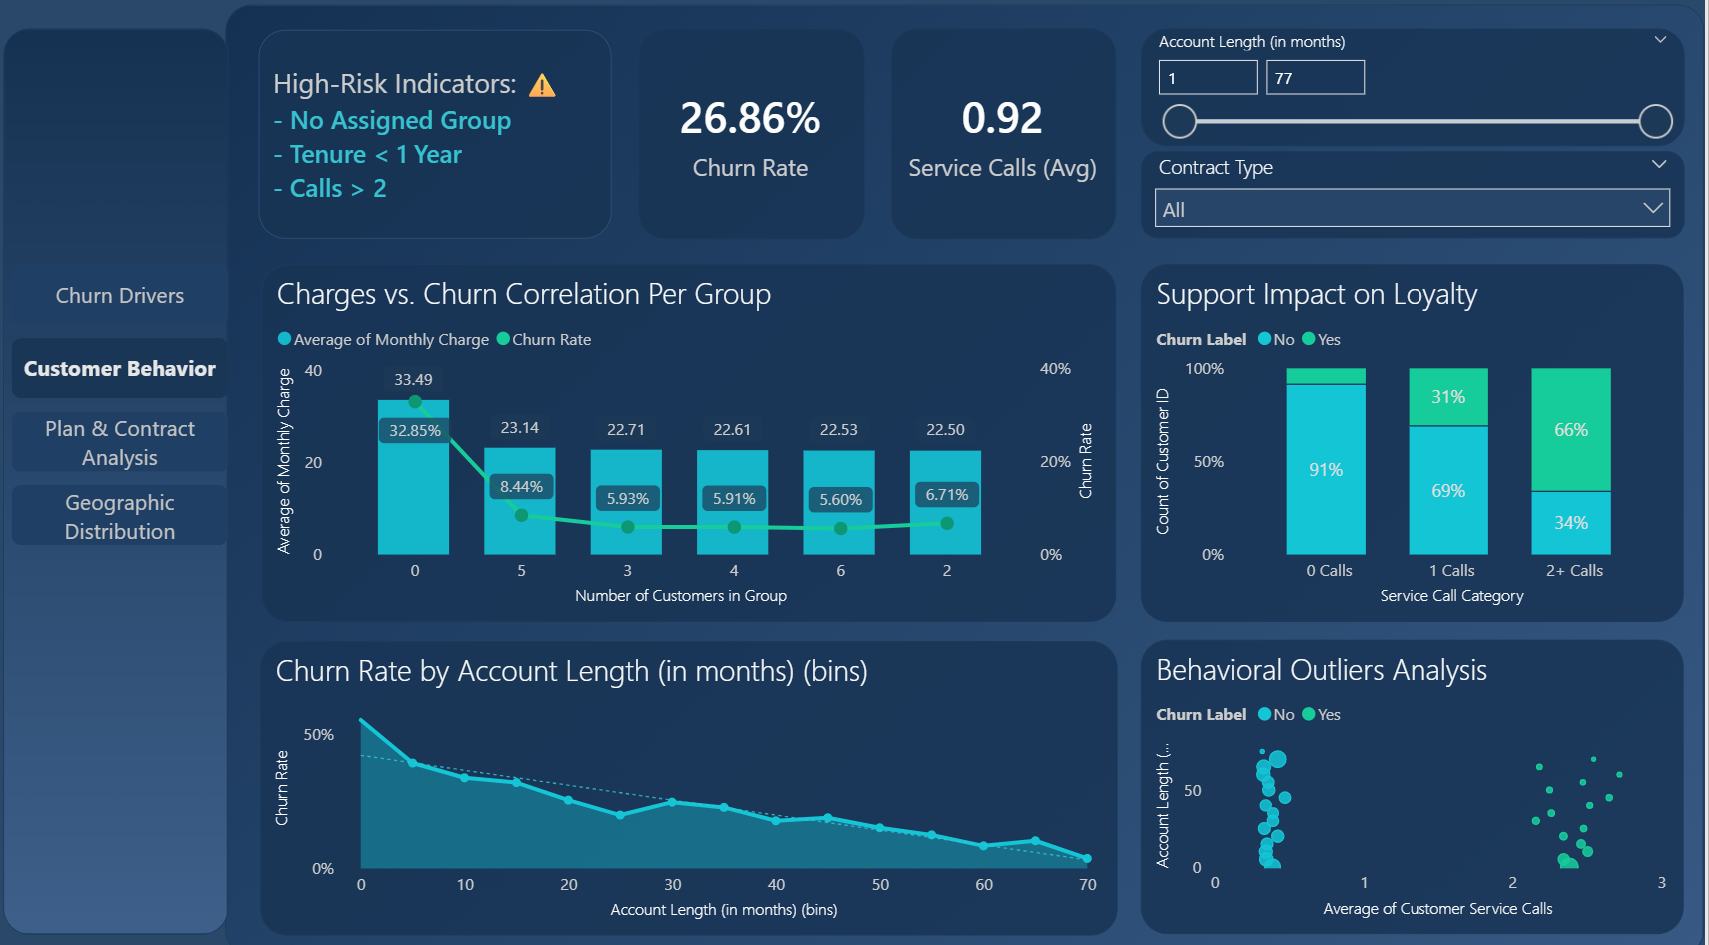

The dashboard page shown, as its layout file describes it:
{"tool":"powerbi","page":{"name":"Customer Behavior","canvas":[1280,720],"ordinal":1},"visuals":[{"type":"image","box":[174.2,9,1105.3,711],"z":0},{"type":"image","box":[8.2,27.1,168.3,676.9],"z":0,"group":"g1"},{"type":"hundredPercentStackedColumnChart","title":"Support Impact on Loyalty","fields":{"Category":["Fact_Subscriptions.Service Call Category"],"Series":["Dim_Churn.Churn Label"],"Y":["CountNonNull(Dim_Churn.Customer ID)"]},"box":[858.1,203.6,406.1,267.2],"z":1000},{"type":"lineStackedColumnComboChart","title":"Charges vs. Churn Correlation Per Group","fields":{"Category":["Dim_customer.Number of Customers in Group"],"Y":["Avg(Fact_Subscriptions.Monthly Charge)"],"Y2":["_Calculations.Churn Rate"]},"box":[201.3,203.6,638,267.2],"z":2000},{"type":"lineChart","fields":{"Category":["Fact_Subscriptions.Account Length (in months) (bins)"],"Y":["_Calculations.Churn Rate"]},"box":[200.1,485,640.4,220.1],"z":3000},{"type":"pageNavigator","box":[14.1,203.7,162.4,210.7],"z":3500,"group":"g1"},{"type":"scatterChart","title":"Behavioral Outliers Analysis","fields":{"X":["Avg(Fact_Subscriptions.Customer Service Calls)"],"Y":["Fact_Subscriptions.Account Length (in months) (bins)"],"Series":["Dim_Churn.Churn Label"],"Size":["CountNonNull(Dim_Contract_Services.Customer ID)"]},"box":[858.1,483.8,406.1,220.1],"z":4000},{"type":"card","fields":{"Values":["_Calculations.AVG Customer Service Calls"]},"box":[671.3,27.1,168,157.4],"z":5000},{"type":"card","fields":{"Values":["_Calculations.Churn Rate (Ignore Filter)"]},"box":[482.6,27.1,168.9,157.4],"z":6000},{"type":"slicer","fields":{"Values":["Fact_Subscriptions.Account Length (in months)"]},"box":[857.9,26.7,407.1,88.5],"z":7000},{"type":"cardVisual","fields":{"Data":["Dim_Churn.Customer Risk Segments:⚠️"]},"box":[199.1,28.1,263.7,156.4],"z":8000},{"type":"group","id":"g1","title":"Group 1","box":[8.2,27.1,168.3,676.9],"z":9000},{"type":"slicer","fields":{"Values":["Dim_Contract_Services.Contract Type"]},"box":[857.9,118.7,407.1,65.4],"z":10000}]}

Visuals, with their boxes in screenshot pixels (x1, y1, x2, y2), scaled from the page's 1280x720 canvas onto the 1709x945 screenshot:
image: crop(233, 12, 1708, 944)
image: crop(11, 36, 236, 924)
"Support Impact on Loyalty" hundredPercentStackedColumnChart: crop(1146, 267, 1688, 618)
"Charges vs. Churn Correlation Per Group" lineStackedColumnComboChart: crop(269, 267, 1121, 618)
lineChart - Fact_Subscriptions.Account Length (in months) (bins) x _Calculations.Churn Rate: crop(267, 637, 1122, 925)
pageNavigator: crop(19, 267, 236, 544)
"Behavioral Outliers Analysis" scatterChart: crop(1146, 635, 1688, 924)
card - _Calculations.AVG Customer Service Calls: crop(896, 36, 1121, 242)
card - _Calculations.Churn Rate (Ignore Filter): crop(644, 36, 870, 242)
slicer - Fact_Subscriptions.Account Length (in months): crop(1145, 35, 1689, 151)
cardVisual - Dim_Churn.Customer Risk Segments:⚠️: crop(266, 37, 618, 242)
"Group 1" group: crop(11, 36, 236, 924)
slicer - Dim_Contract_Services.Contract Type: crop(1145, 156, 1689, 242)
